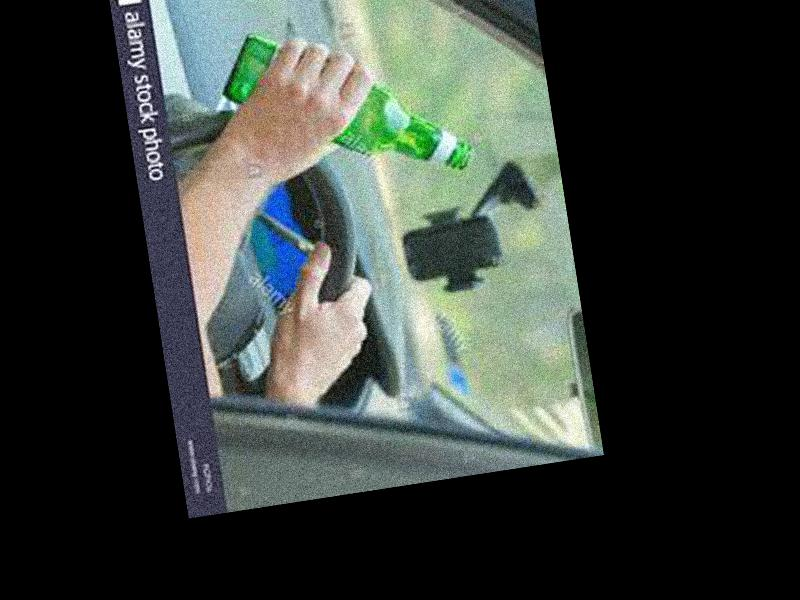Beer: (212, 10, 471, 202)
